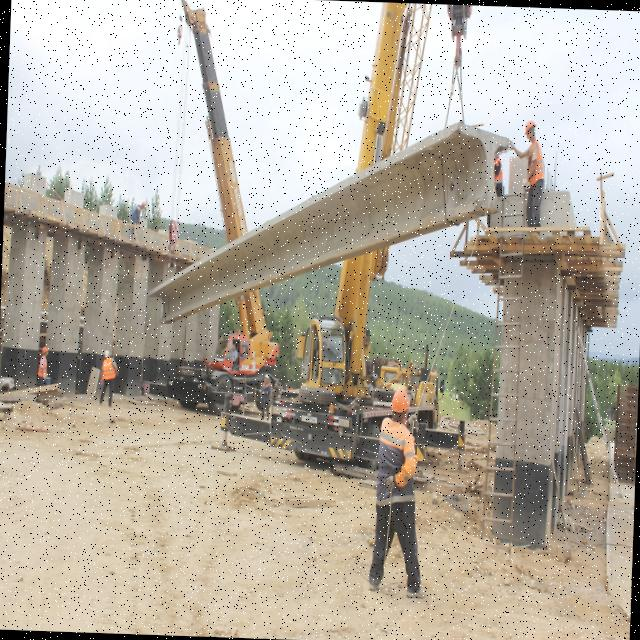Helmet: (391, 388, 411, 415), (525, 121, 538, 136), (104, 350, 111, 359), (43, 347, 50, 356), (264, 374, 270, 381), (142, 203, 147, 211)
Jacket: (379, 416, 415, 501), (528, 141, 545, 190), (102, 359, 116, 383), (495, 159, 503, 188), (39, 357, 48, 379), (262, 382, 270, 404), (133, 207, 142, 226)
